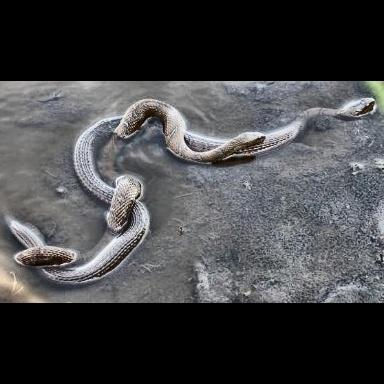snake: (13, 97, 376, 287)
